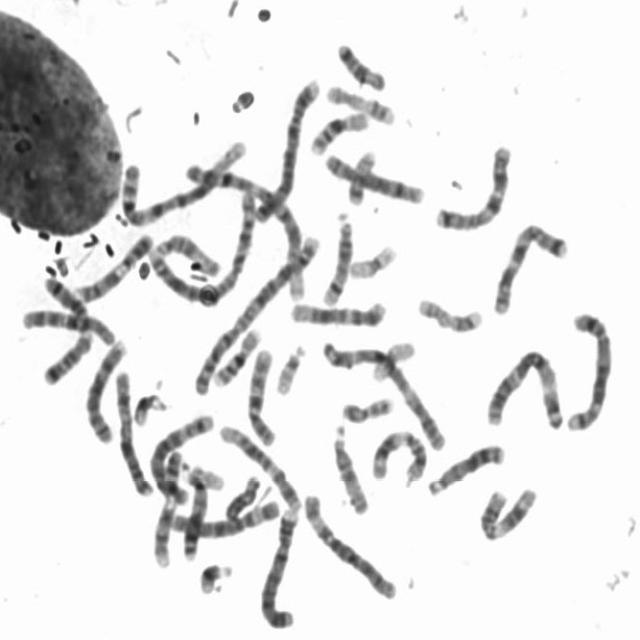A1: (178, 151, 310, 303), (115, 129, 251, 227)
A2: (187, 226, 323, 394), (144, 182, 260, 309)
A3: (318, 331, 451, 453), (481, 340, 568, 432)
B4: (250, 67, 326, 225), (255, 499, 304, 631)
B5: (142, 405, 219, 505), (561, 302, 618, 433)
C10: (17, 300, 119, 347), (243, 338, 281, 447)
C11: (475, 478, 542, 542), (366, 420, 432, 484)
C12: (214, 415, 305, 514), (285, 291, 391, 329)
C6: (298, 483, 402, 602), (165, 491, 285, 542)
C7: (487, 212, 573, 316), (431, 134, 517, 233)
C8: (319, 144, 429, 206), (80, 330, 132, 447)
C9: (69, 225, 157, 304), (148, 442, 187, 571)
D13: (423, 434, 510, 498), (179, 458, 211, 560)
D14: (318, 206, 358, 308), (35, 270, 90, 342)
D15: (328, 417, 373, 516), (150, 226, 226, 277)
E16: (209, 320, 265, 388), (306, 102, 373, 156)
E17: (323, 76, 400, 127), (412, 288, 488, 334)
E18: (38, 323, 97, 387), (333, 34, 391, 92)
F19: (368, 332, 420, 383), (345, 235, 402, 281)
F20: (342, 141, 381, 207), (338, 387, 398, 424)
G21: (194, 553, 237, 596), (128, 384, 170, 427)
G22: (271, 335, 310, 397), (180, 458, 228, 492)
X: (110, 364, 156, 498)
Y: (220, 466, 265, 522)
